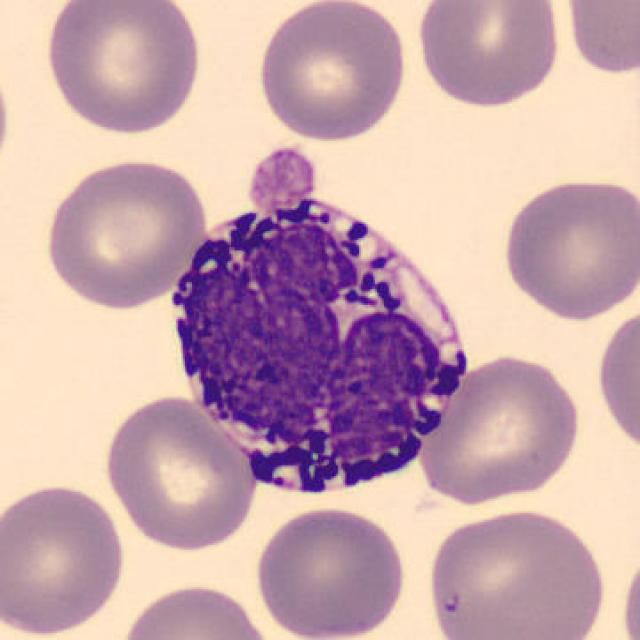Basophil: (155, 178, 480, 515)
Platelets: (242, 143, 320, 215)
RBC: (412, 349, 586, 508), (41, 153, 210, 312), (98, 392, 261, 554), (420, 504, 610, 640), (248, 500, 412, 640), (252, 0, 410, 145), (39, 0, 206, 136), (496, 173, 638, 324), (0, 480, 130, 638), (412, 0, 566, 111), (114, 578, 282, 640), (592, 298, 638, 460), (558, 0, 640, 79), (617, 536, 640, 640), (0, 53, 14, 190)
